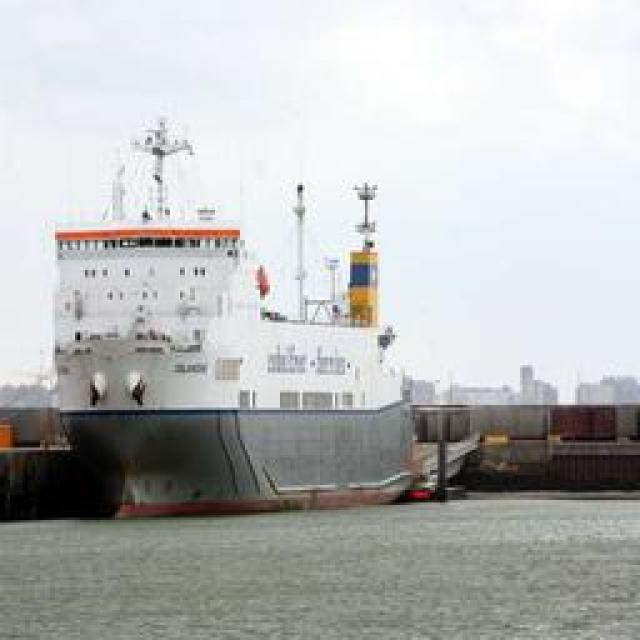CIV_Ship: (32, 85, 420, 513)
